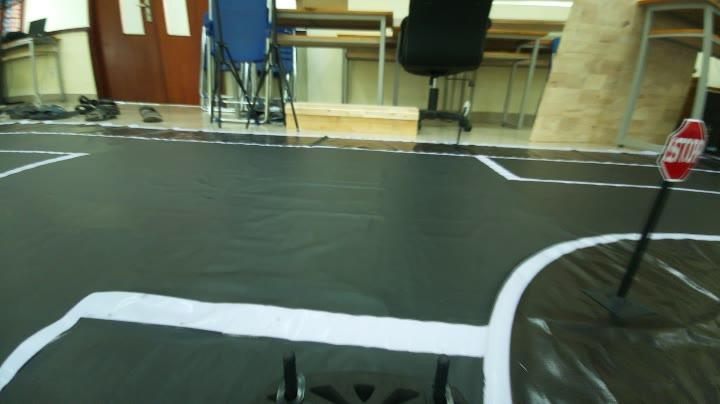stop: (654, 113, 710, 190)
